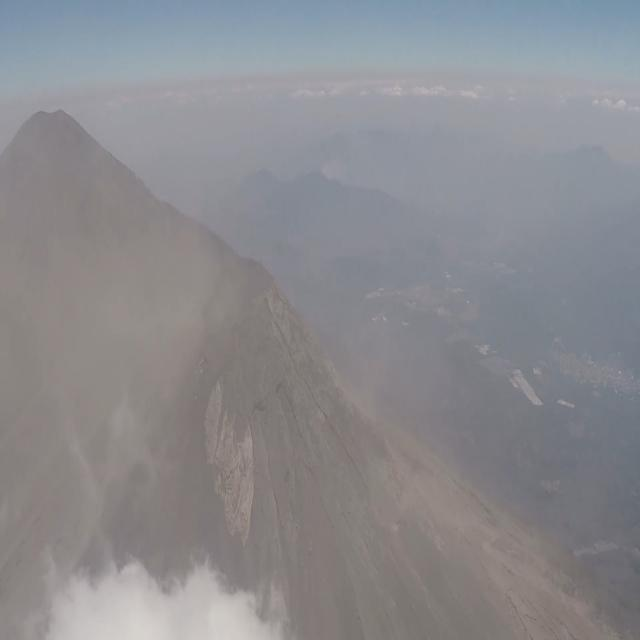Summit: (120, 246, 410, 547)
